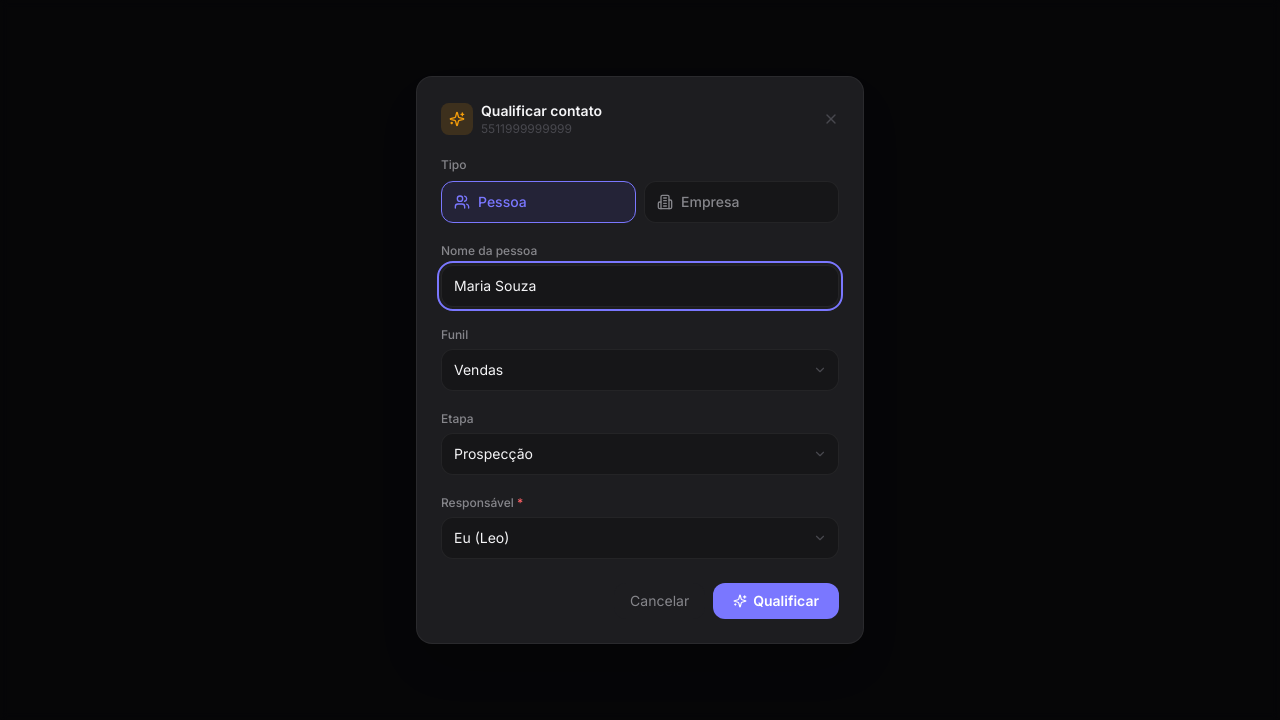
Test: <QualifyModal /> › exibe mensagem de erro e reabilita botão quando API falha
Expected: the dropdown showing "Vendas" below "Funil" is shown, [441,349,839,391]
Click the button "Qualificar" at (776, 601), box [713,583,839,619]
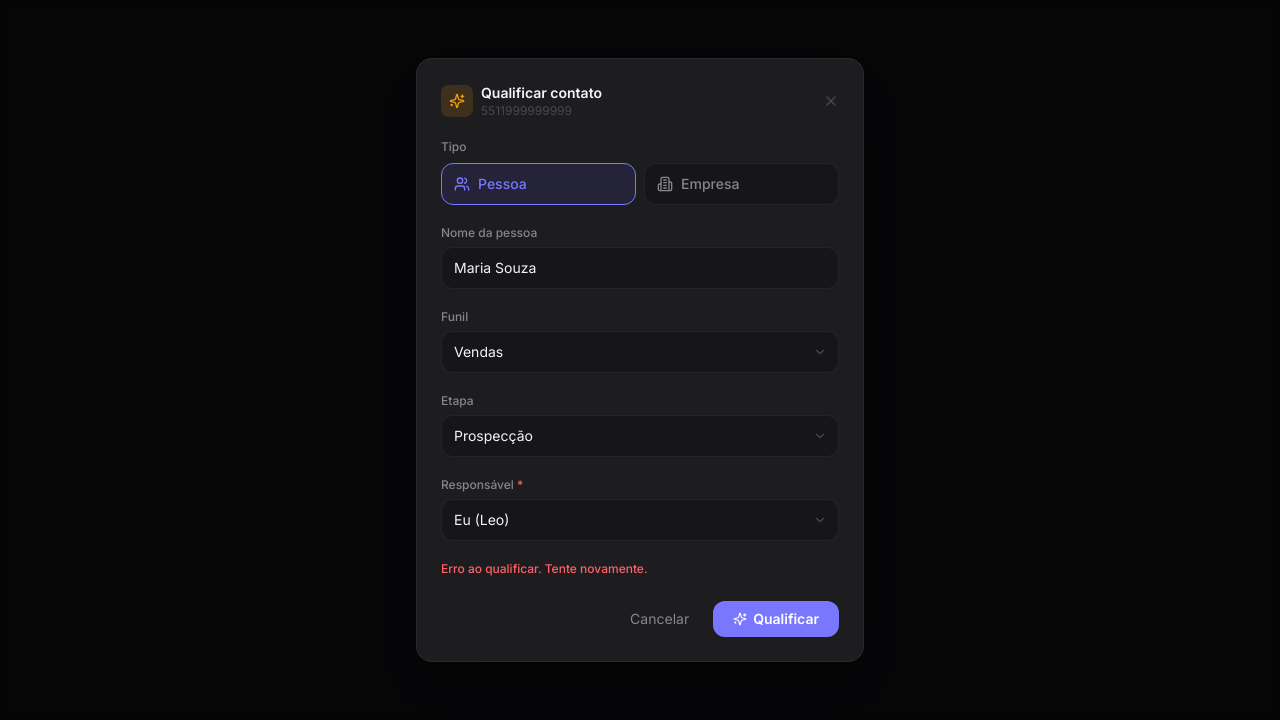
Expected: the button "Qualificar" is enabled, [713,601,839,637]
Now the text "Erro ao qualificar. Tente novamente." is shown, box [441,561,648,576]
